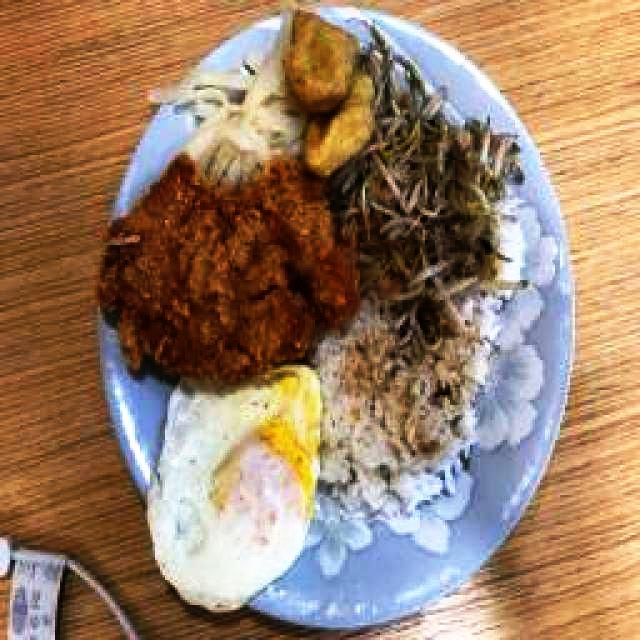chicken_nuggets: (287, 10, 372, 176)
fried_chicken: (100, 154, 356, 377)
fried_eggs: (148, 366, 316, 610)
mung_bean_sprouts: (365, 37, 493, 282)
rice: (321, 303, 474, 500)
